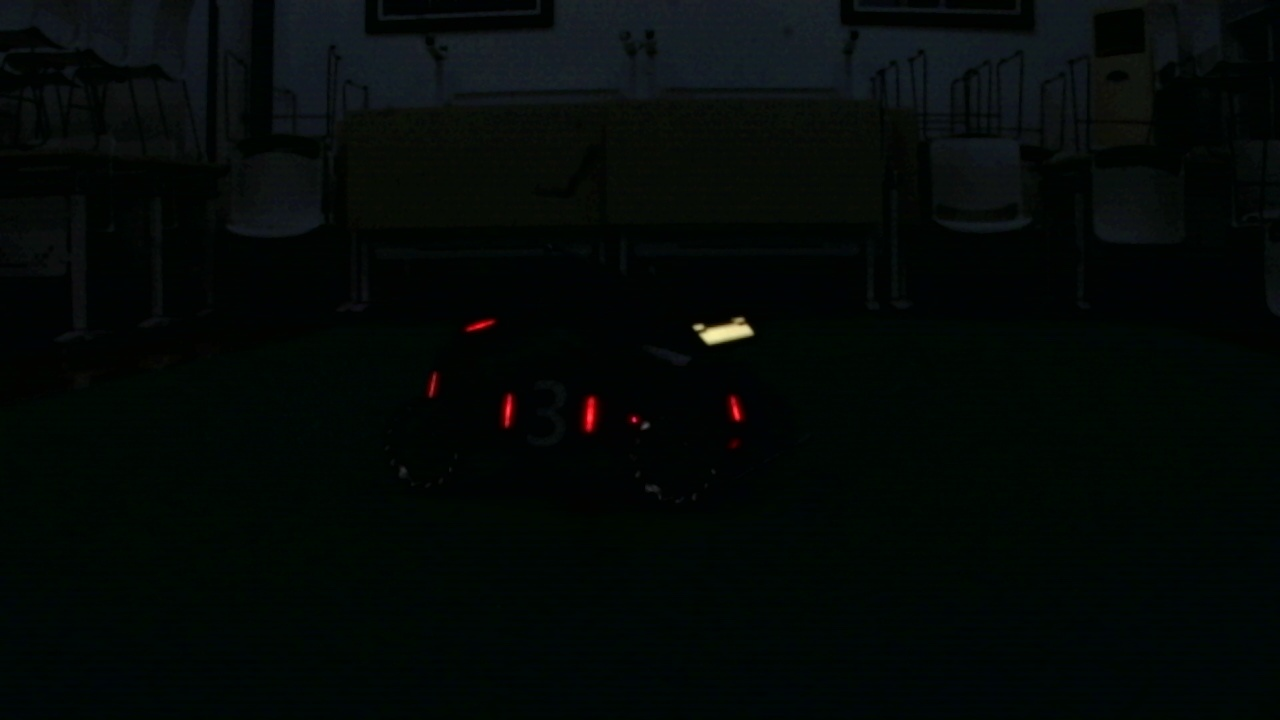lamp: (582, 389, 600, 434), (727, 390, 744, 428), (426, 369, 441, 404), (500, 391, 512, 432)
pair1: (504, 395, 600, 431)
